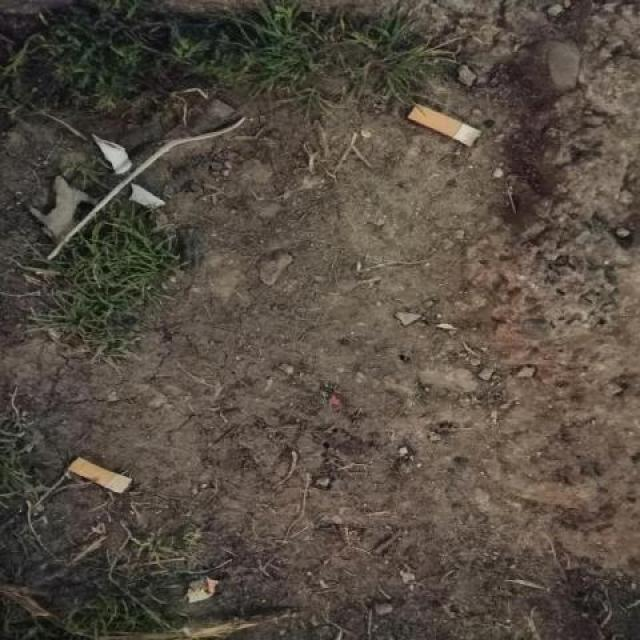non-organic waste: (407, 99, 485, 152), (64, 453, 136, 500)
